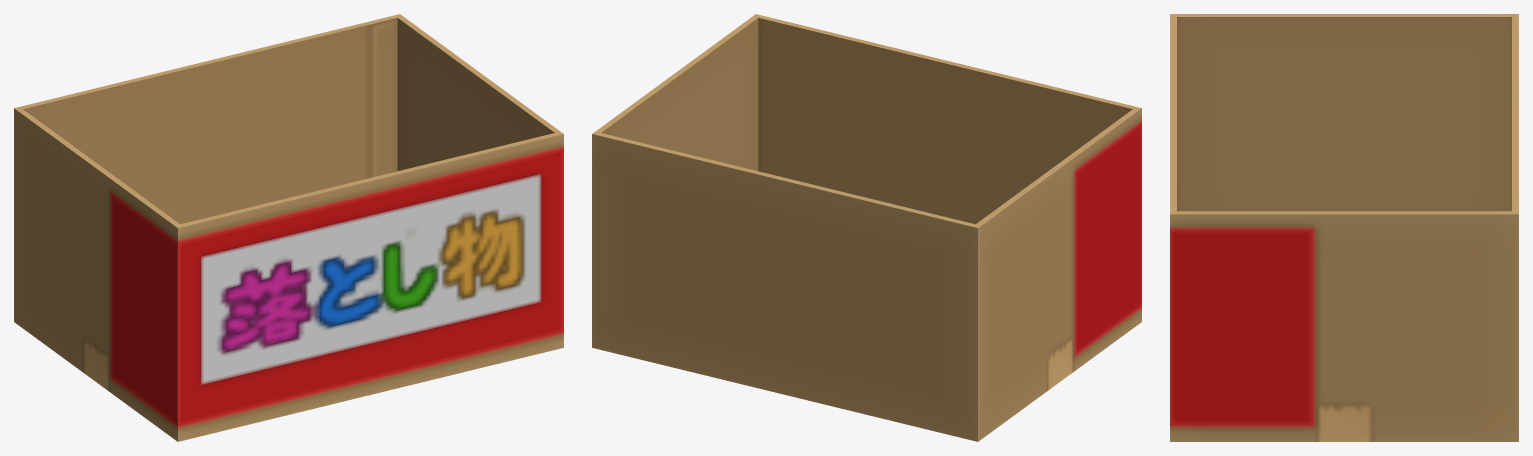
File: set_lost_article_box.fbx
3 views of the same model, side by side, from view 1: azimuth 30°, elevation 25°; view 2: azimuth 150°, elevation 25°; view 3: azimuth 270°, elevation 25° (orthographic). The views are drawn at different scales.
Visible parts, largest first — view 1: set_lost_article_box; view 2: set_lost_article_box; view 3: set_lost_article_box.
Boxes of the visible parts, x1,y1,x2,y2 form: set_lost_article_box: (14,14,563,441); set_lost_article_box: (592,14,1141,441); set_lost_article_box: (1170,14,1518,441).
Size of the model in its own units: 34 by 18 by 25.
